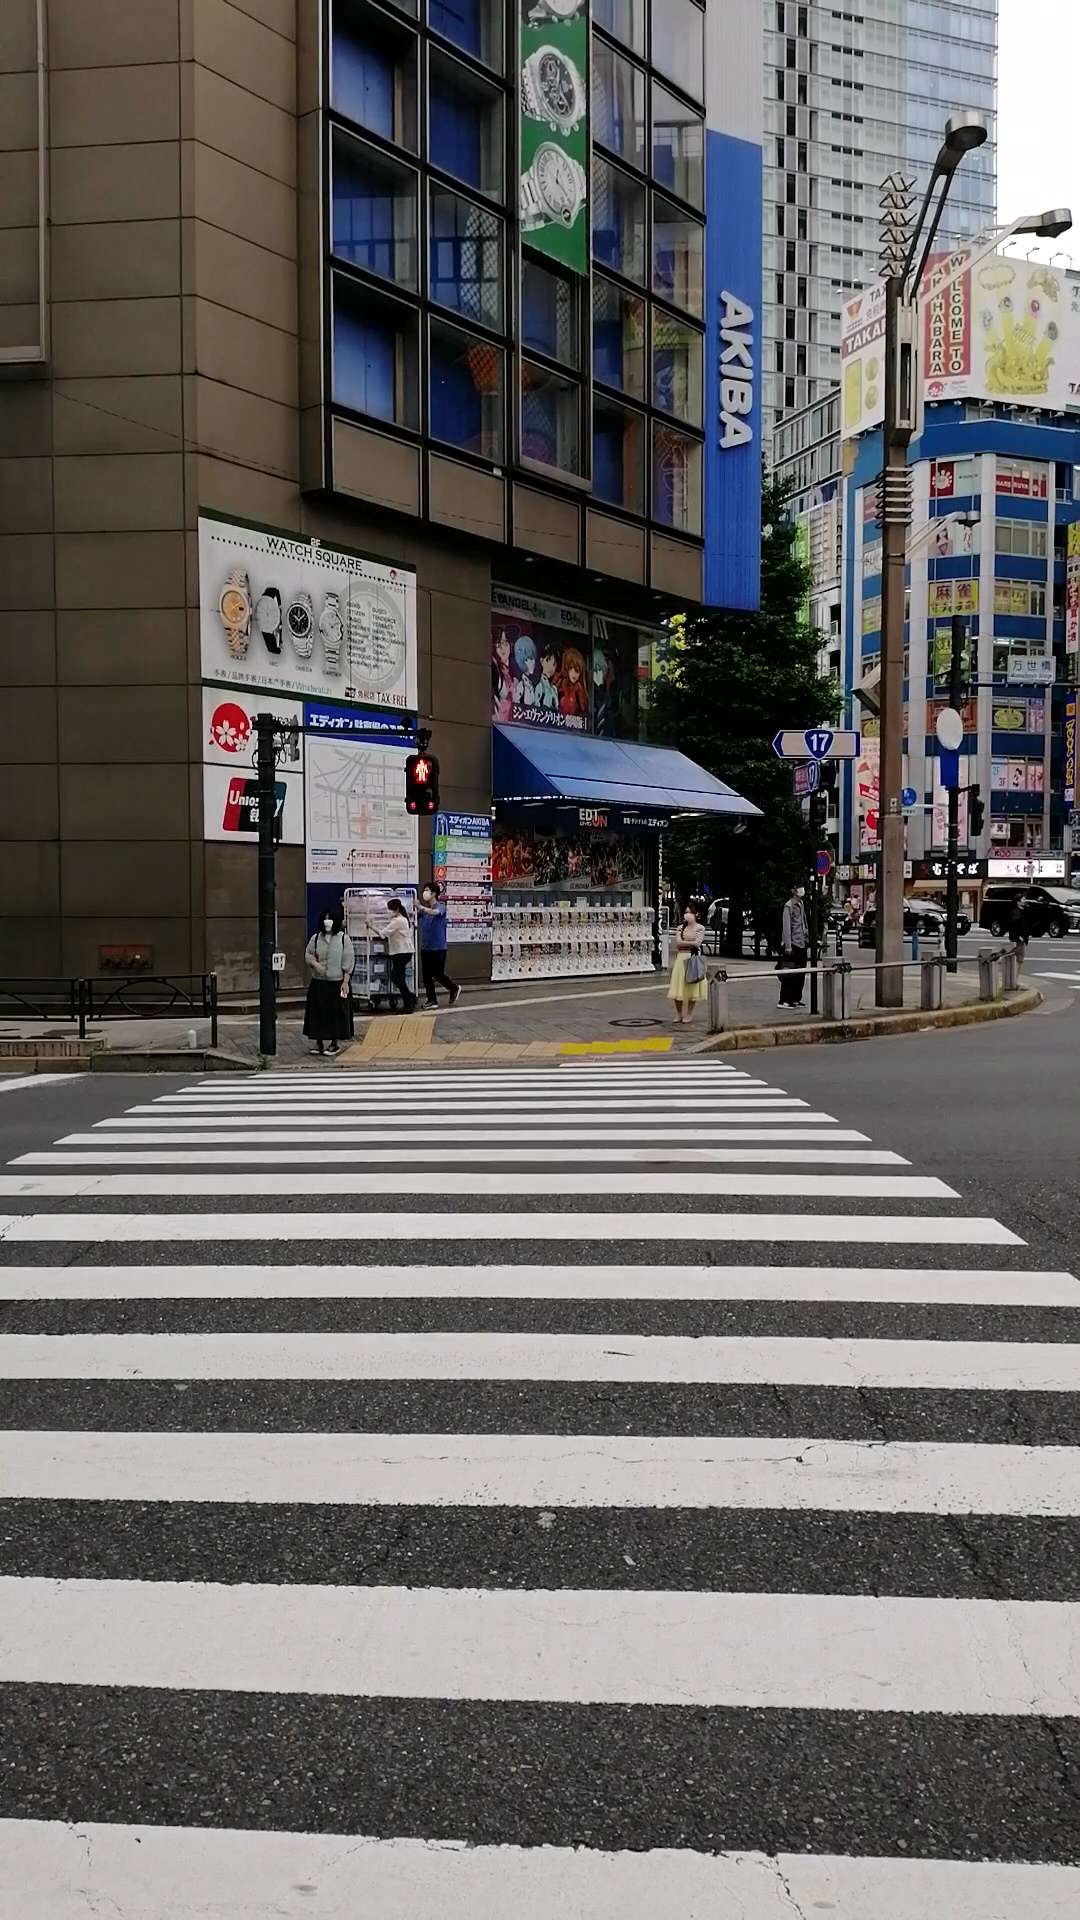red: (405, 754, 440, 814)
